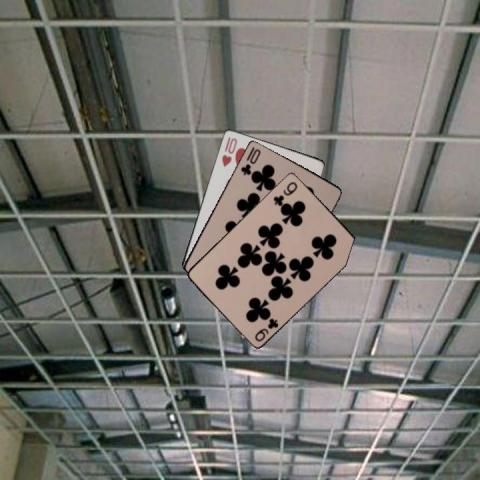10c: (237, 143, 262, 176)
10h: (218, 134, 238, 168)
9c: (270, 178, 299, 206), (251, 314, 280, 342)
